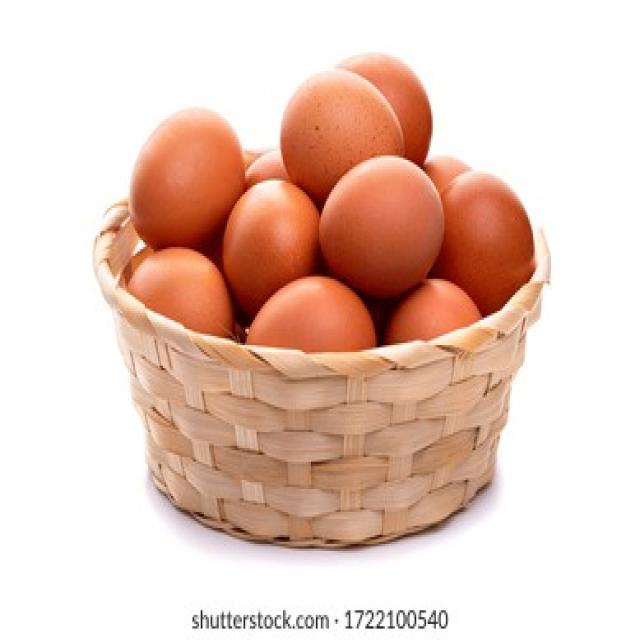Brown Egg: (328, 150, 450, 301), (202, 171, 330, 299), (123, 106, 248, 226), (439, 159, 537, 304), (233, 271, 380, 366), (110, 238, 235, 348), (284, 61, 404, 159), (378, 284, 489, 348)
